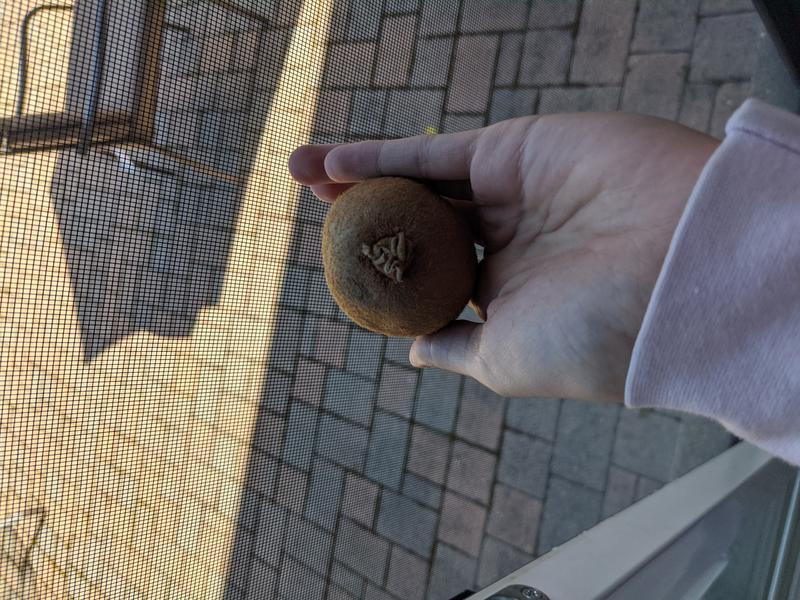kiwi: (321, 177, 478, 338)
